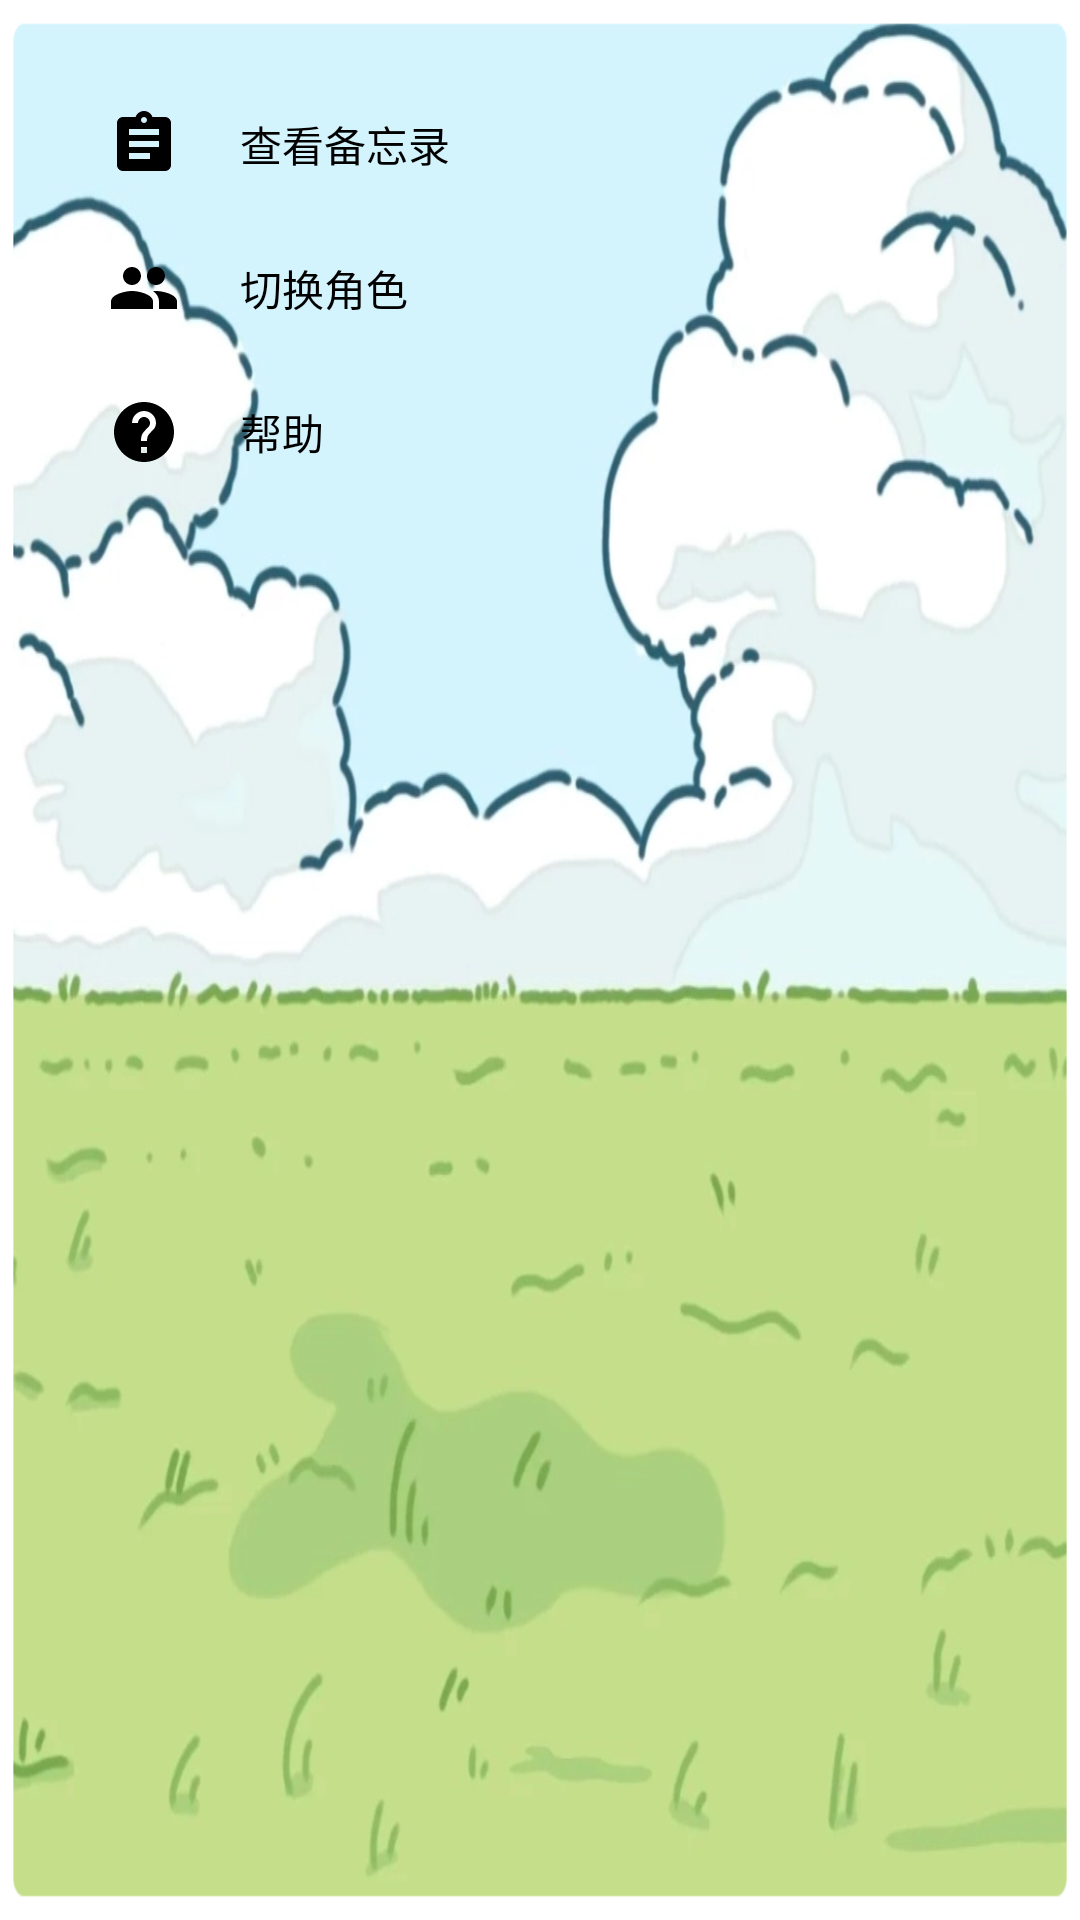

Locate icon controls on the screen. Image size 1080w x 1920h, boxes as rect(x1, y1, x2, y2).
View Memos: rect(117, 111, 171, 171)
